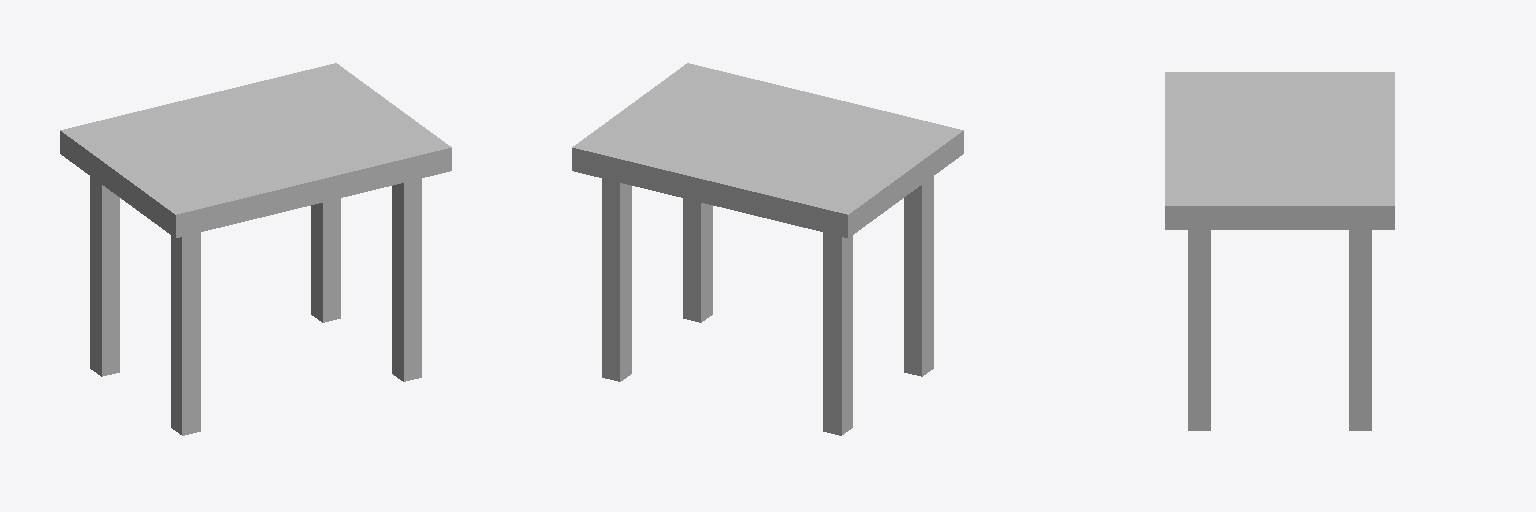
File: restaurant-table.obj
3 renders of one model, left to right at view 1: azimuth 30°, elevation 25°; view 2: azimuth 150°, elevation 25°; view 3: azimuth 270°, elevation 25°, orthographic.
Parts seen in each view (by area): view 1: pCube1; view 2: pCube1; view 3: pCube1.
Part boxes in pixels (left/top/right/bottom): pCube1: left=60, top=63, right=451, bottom=435; pCube1: left=572, top=63, right=963, bottom=435; pCube1: left=1165, top=72, right=1394, bottom=430.
Size of the model in its own units: 12.5 by 10.12 by 9.05.